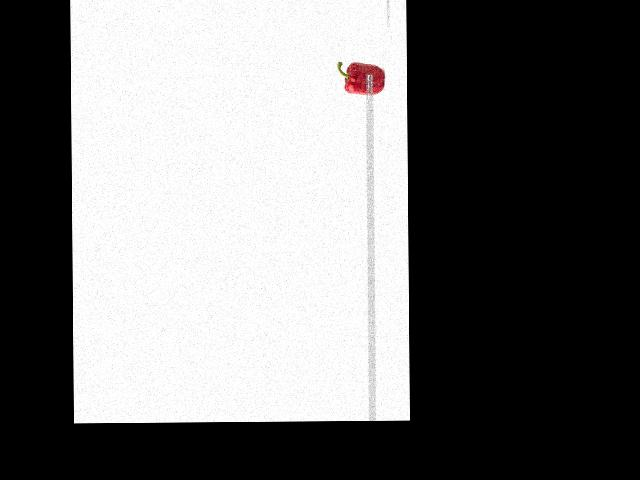bell_pepper: (334, 57, 383, 97)
